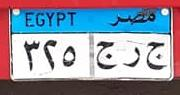2: (42, 40, 60, 71)
3: (21, 40, 40, 70)
5: (61, 45, 76, 67)
jeem: (145, 37, 167, 73), (95, 42, 119, 69)
raa: (123, 46, 142, 69)
